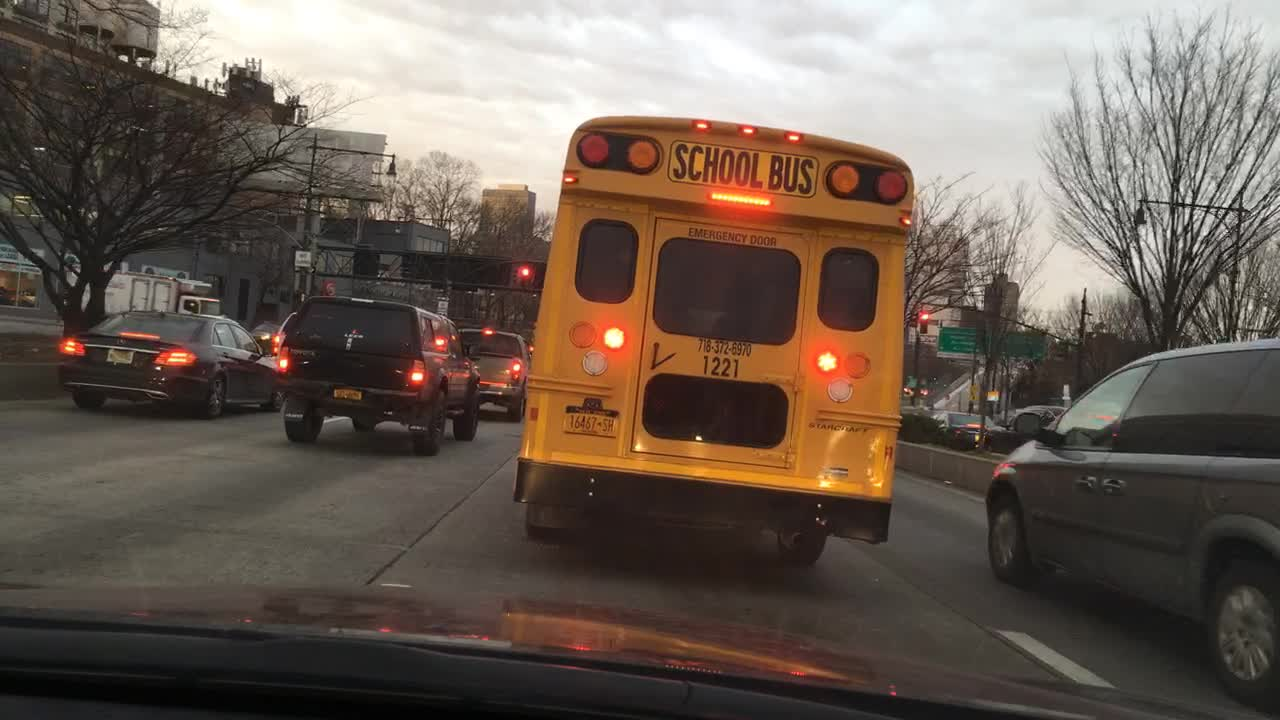bus: (508, 113, 916, 569)
car: (983, 335, 1279, 709), (274, 294, 484, 455), (56, 308, 287, 418), (457, 327, 533, 422), (933, 409, 1002, 441), (1008, 404, 1067, 432), (250, 324, 282, 355)
traffic light: (916, 309, 932, 335), (518, 263, 529, 287), (510, 266, 517, 286)
traffic sign: (403, 250, 547, 289), (938, 324, 1049, 364), (351, 248, 379, 277), (292, 248, 313, 268), (435, 299, 447, 318)
truck: (66, 268, 223, 319)
